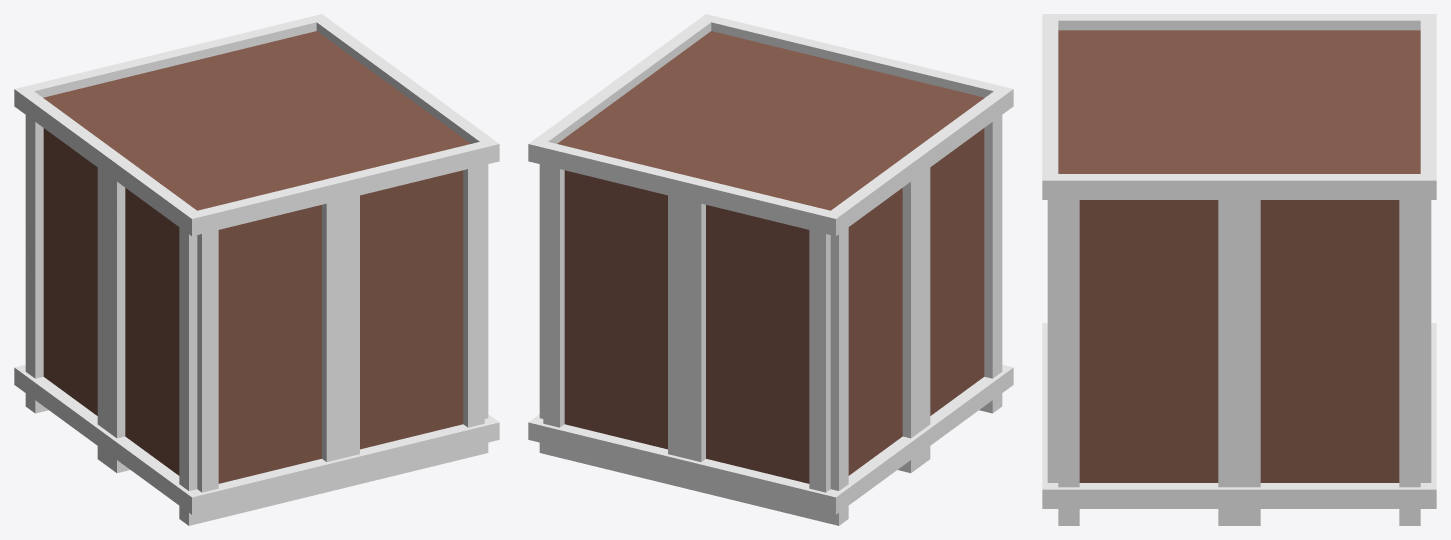
Rendered from crate_medium.glb.
3 renders of one model, left to right at view 1: azimuth 30°, elevation 25°; view 2: azimuth 150°, elevation 25°; view 3: azimuth 270°, elevation 25°, orthographic. The views are drawn at different scales.
Visible parts, largest first — view 1: CrateMedium-occ; view 2: CrateMedium-occ; view 3: CrateMedium-occ.
Part boxes in pixels (x1,y1,x2,y2): CrateMedium-occ: [14, 14, 499, 525]; CrateMedium-occ: [528, 14, 1013, 525]; CrateMedium-occ: [1042, 14, 1436, 525].
Size of what is drawn, in the model's own units: 2.31 by 2.25 by 2.31.
